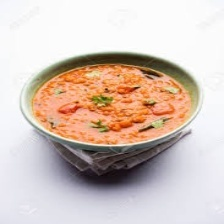sabzi: (28, 60, 196, 147)
